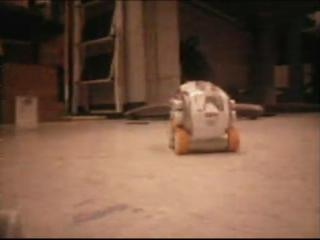cozmo: (165, 78, 242, 157)
